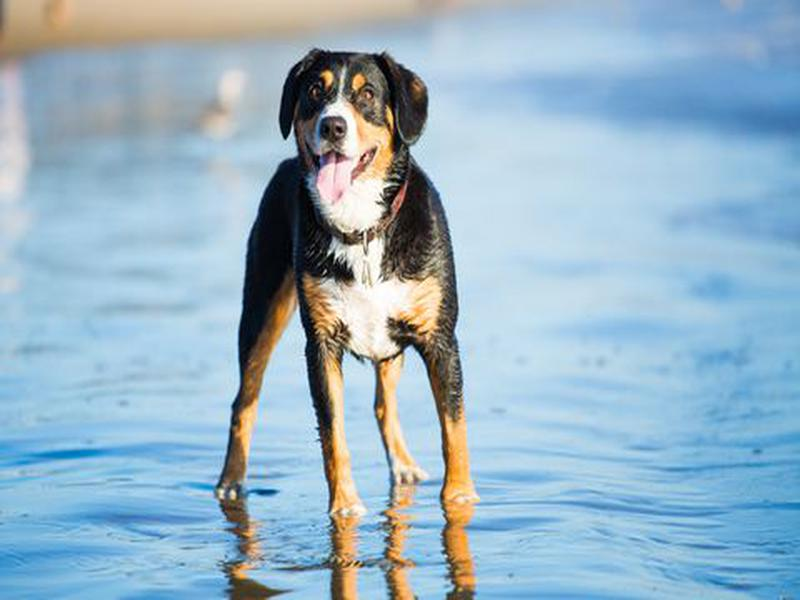dog_stand: (207, 45, 484, 523)
